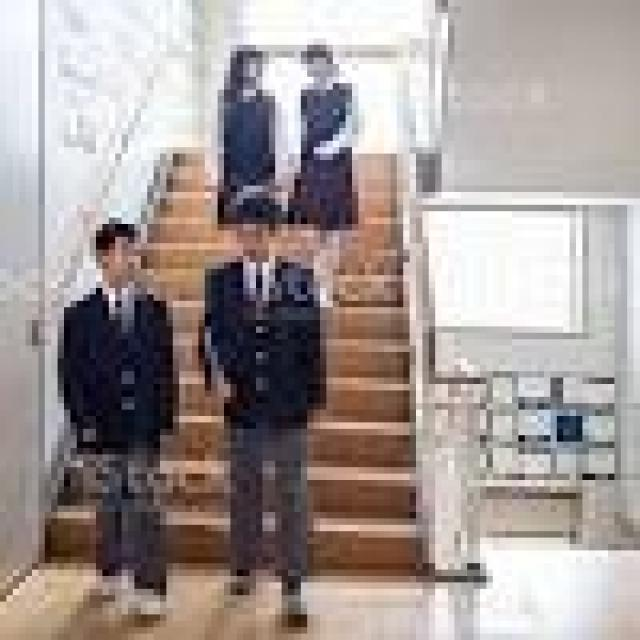stairs: (51, 140, 422, 570)
